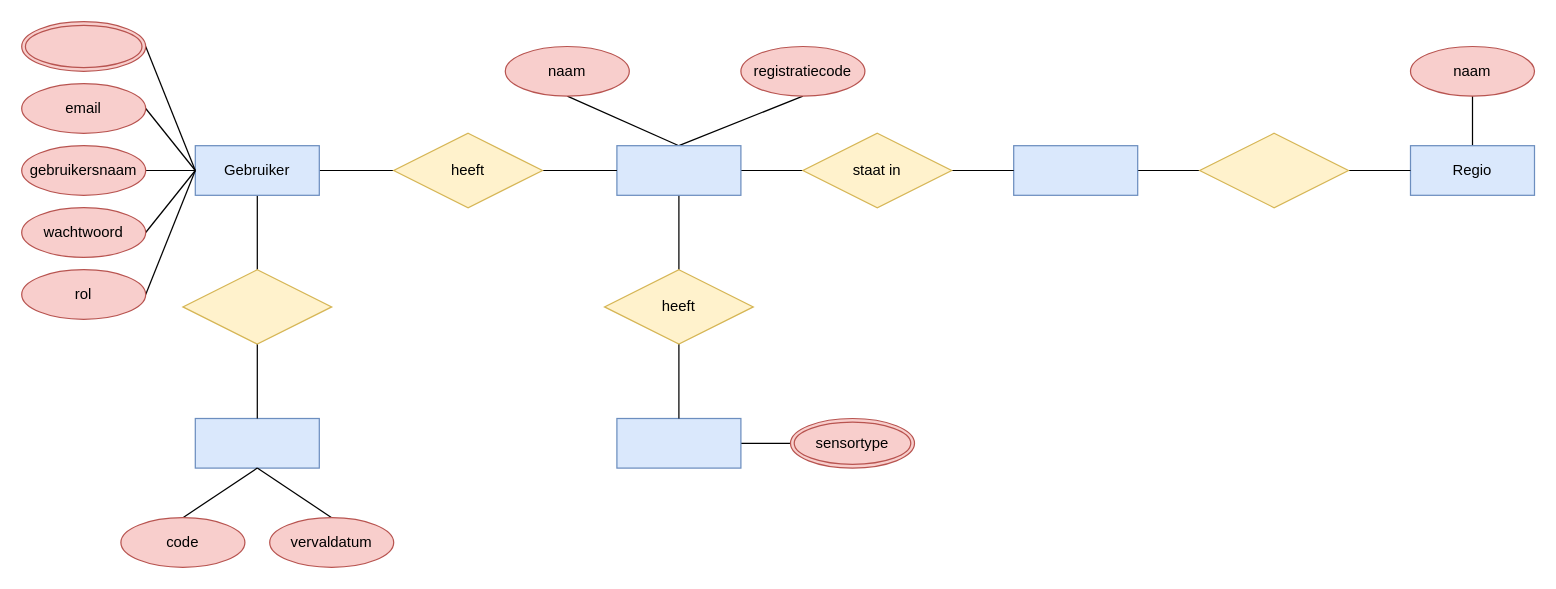
The diagram is 1556 pixels wide and 589 high, and some of its shapes have lost their labels. Here are the shapes that lost their labels. From the top down, the box of each, then its label:
(20, 20, 146, 71): naamgegevens
(616, 144, 741, 195): Meetstation
(1012, 144, 1138, 195): Locatie
(1198, 132, 1348, 208): bevindt zich in
(182, 268, 332, 344): hoort bij
(194, 417, 319, 468): Workshopcode
(616, 417, 741, 468): Sensor
